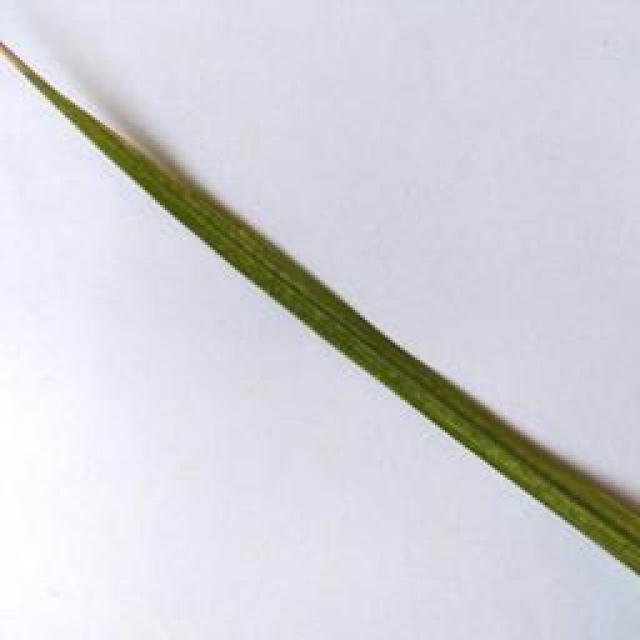Healthy-Plant: (0, 40, 640, 581)
